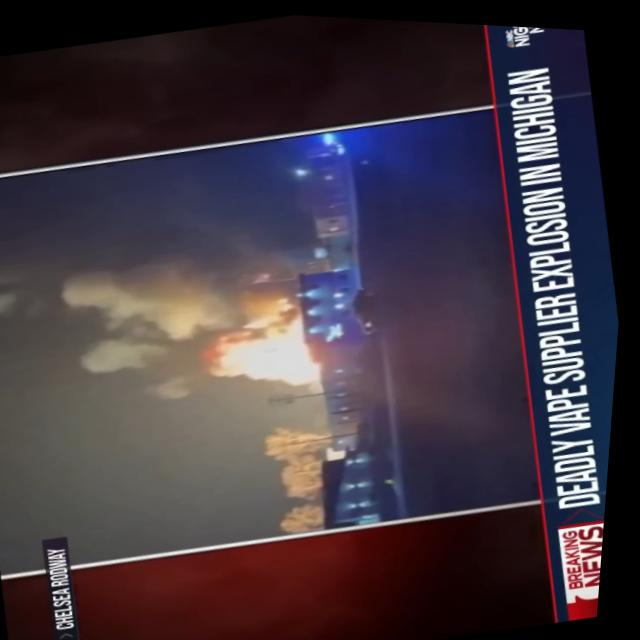Fire: (132, 217, 375, 446)
